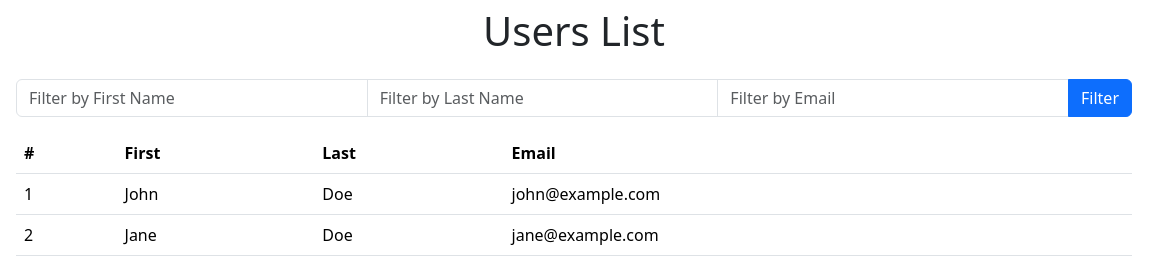
Test: App Component › filters users by first name
The image size is (1149, 273).
In the field with placeholder "Filter by First Name": (192, 98) [16,79,368,117], type "John"
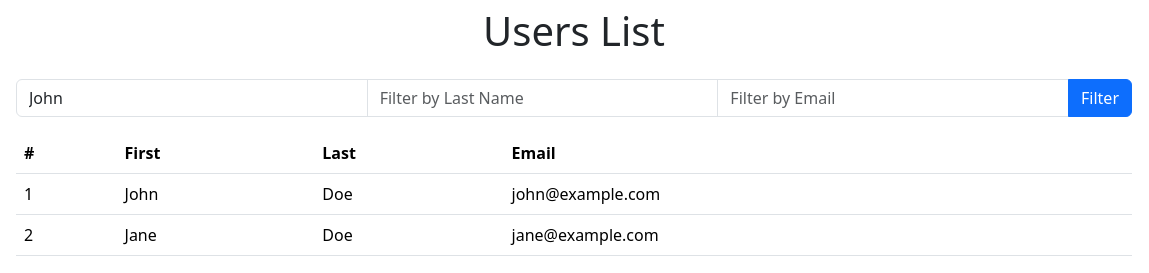
Click the button "Filter": click(1100, 98) [1068,79,1132,117]
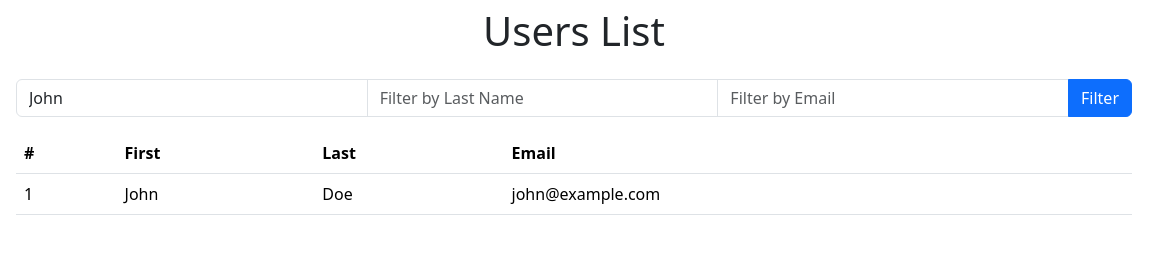
Expected: the text "John" is shown, [116,174,314,214]
Now the text "Jane" is gone
